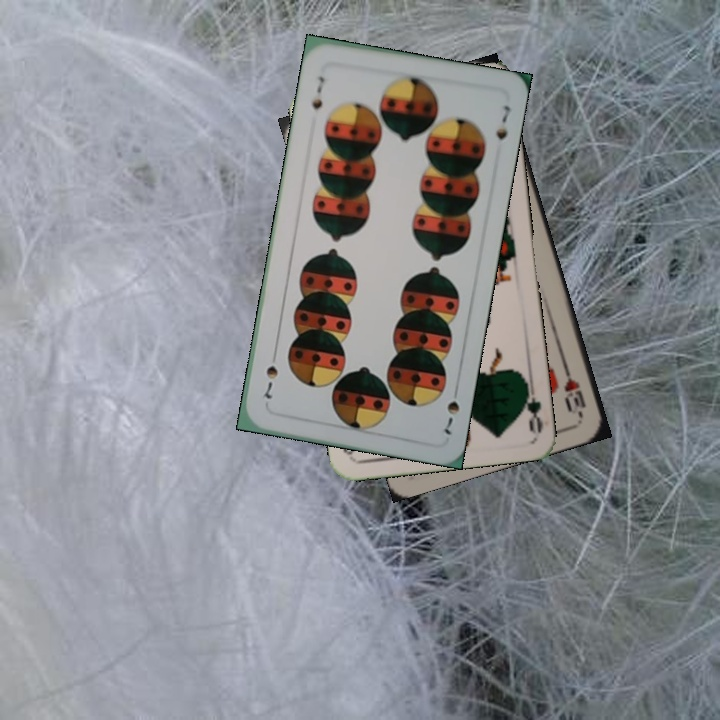GO: (517, 375, 546, 434)
H10: (559, 361, 589, 419)
S7: (440, 381, 462, 437), (307, 72, 327, 112)
